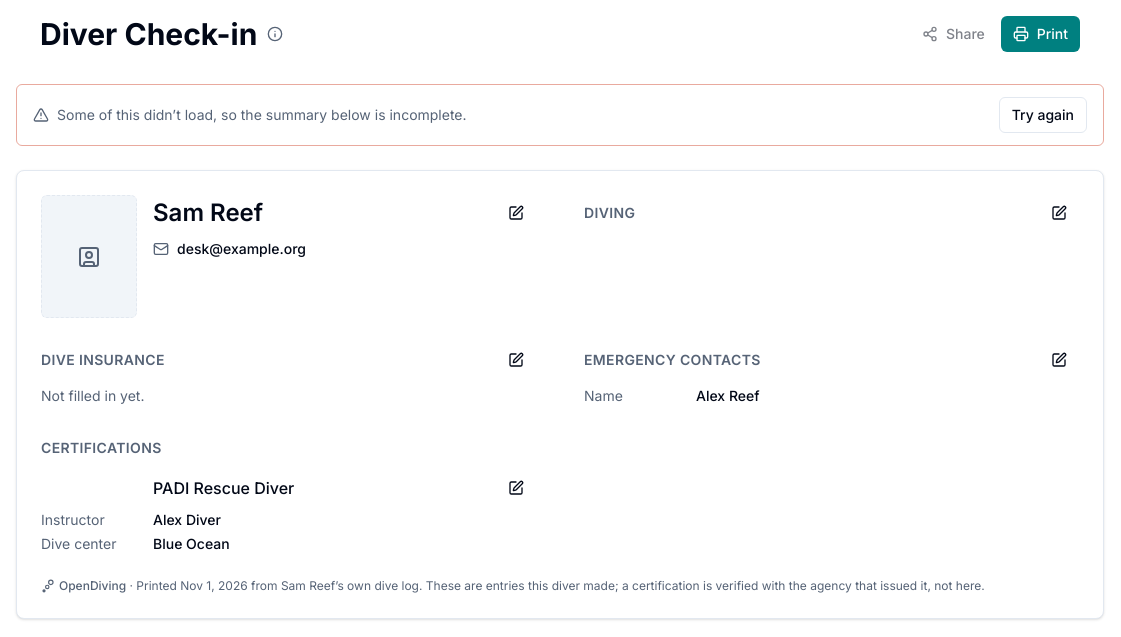
Test: sharing the page › holds Share when the figures failed to load, and not when only the contacts did
Expected: the text "PADI Rescue Diver" is shown, [153,478,294,498]
Expected: the button "Share" is disabled, [910,16,997,52]
Step 1. Click the button "Try again" → (1043, 115), box [999,97,1087,133]
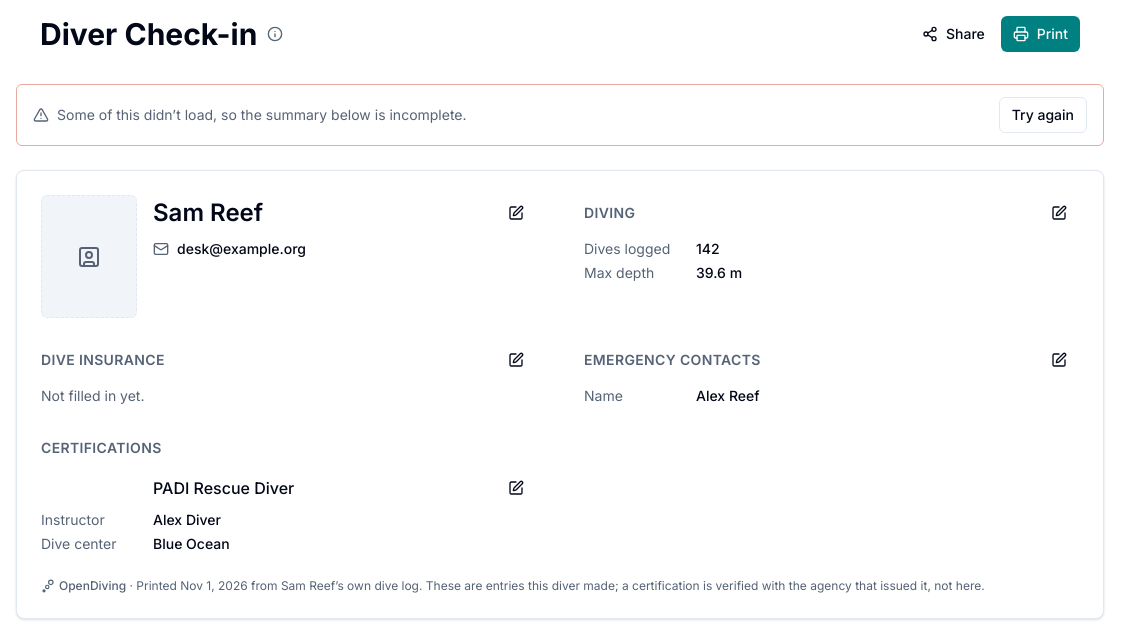
Expected: the text "142" is shown, [696,240,720,257]
Expected: the button "Share" is enabled, [910,16,997,52]
